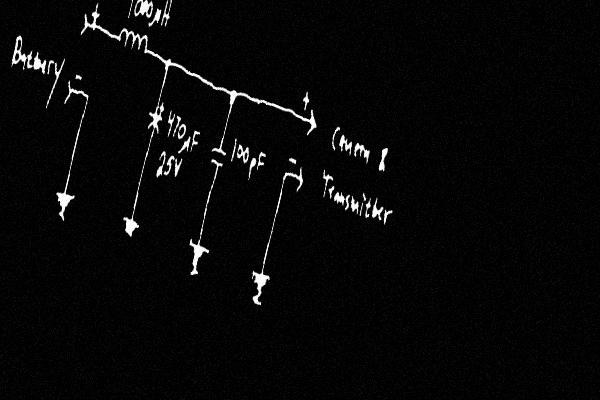capacitor: (204, 136, 229, 181), (142, 103, 166, 141)
ground: (180, 224, 214, 286), (243, 256, 275, 313), (47, 176, 79, 227), (117, 204, 144, 242)
inductor: (113, 19, 156, 60)
